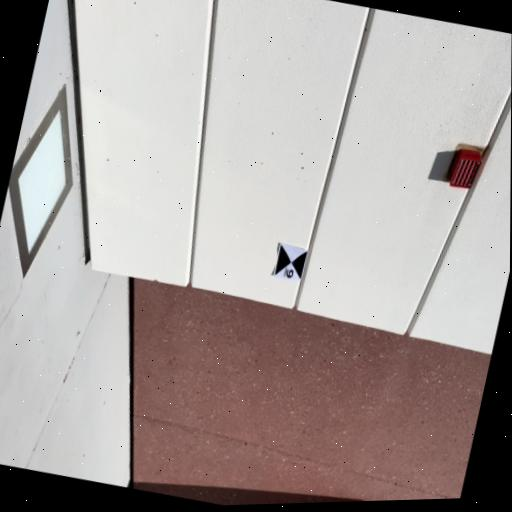target9: (273, 243, 308, 284)
